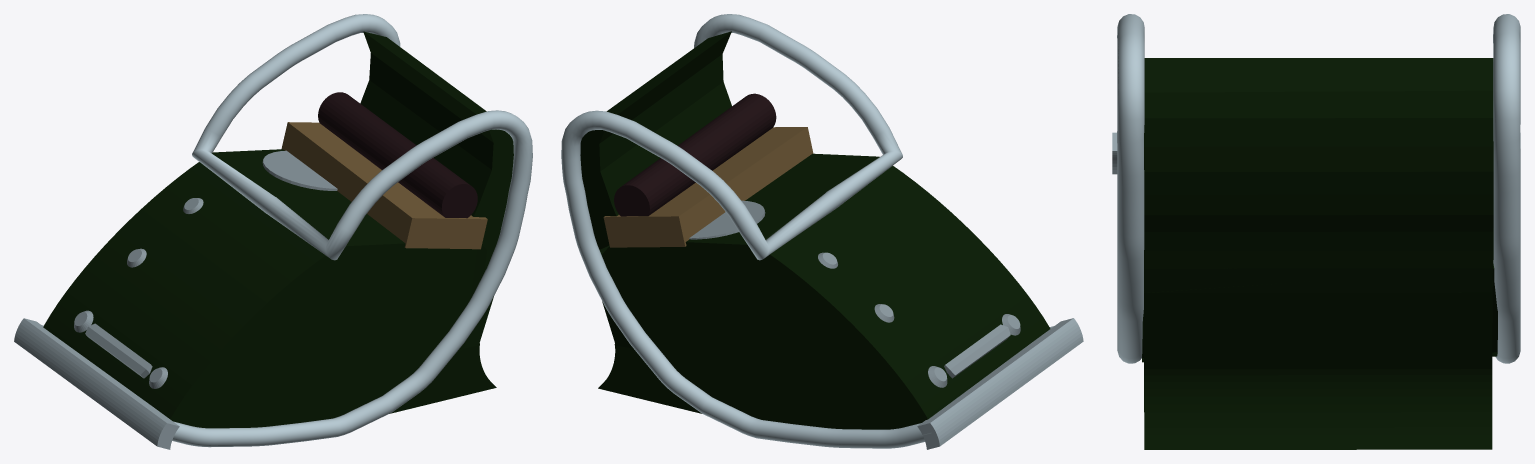
The model's file is MAQUINA.glb.
3 renders of one model, left to right at view 1: azimuth 30°, elevation 25°; view 2: azimuth 150°, elevation 25°; view 3: azimuth 270°, elevation 25°, orthographic. The views are drawn at different scales.
Visible parts, largest first — view 1: CorpoMaquina, Cube.002, Suporte, CuboInterior, CilindroInterior, Cube, Cube.003, Object, Space; view 2: CorpoMaquina, Cube, Suporte, CuboInterior, CilindroInterior, Cube.002, Cube.003, Space, Object; view 3: Suporte, Cube.002, Cube, CorpoMaquina.
Part boxes in pixels (x1,y1,x2,y2): CorpoMaquina: [43, 149, 487, 428]; Cube.002: [172, 110, 532, 447]; Suporte: [360, 31, 513, 413]; CuboInterior: [281, 122, 487, 249]; CilindroInterior: [318, 92, 477, 218]; Cube: [42, 14, 400, 326]; Cube.003: [14, 318, 179, 449]; Object: [262, 150, 337, 190]; Space: [85, 323, 152, 378]; CorpoMaquina: [601, 153, 1050, 429]; Cube: [561, 110, 931, 448]; Suporte: [580, 31, 731, 413]; CuboInterior: [603, 127, 813, 247]; CilindroInterior: [614, 93, 776, 216]; Cube.002: [694, 14, 1053, 328]; Cube.003: [917, 318, 1083, 449]; Space: [944, 324, 1010, 378]; Object: [689, 200, 765, 239]; Suporte: [1144, 58, 1493, 449]; Cube.002: [1117, 14, 1144, 363]; Cube: [1493, 14, 1520, 363]; CorpoMaquina: [1142, 264, 1497, 362].
Size of the model in its own units: 2.75 by 1.98 by 1.79.
